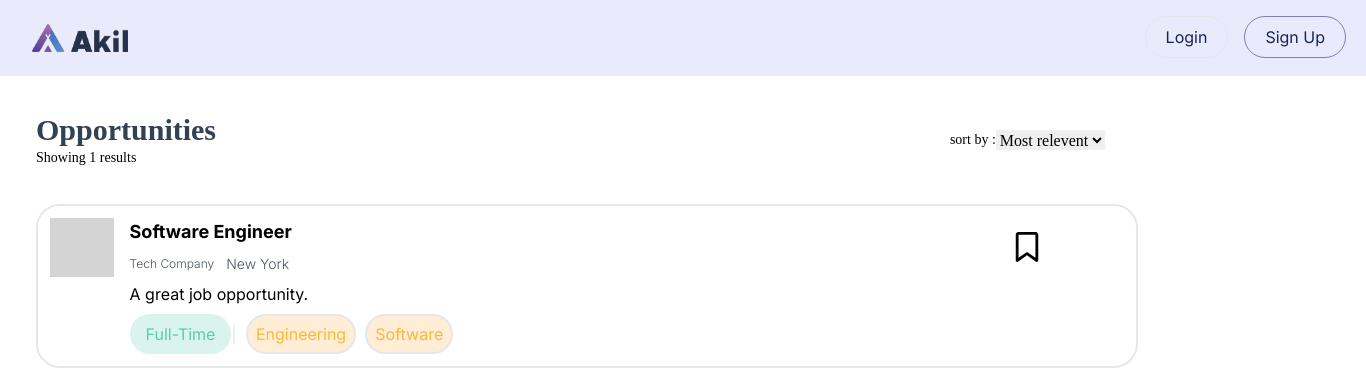
Test: JobCard Component › should allow bookmarking a job
Step 1. Click the icon with test id "bookmark-icon" → [1027, 247], box [1012,232,1042,262]
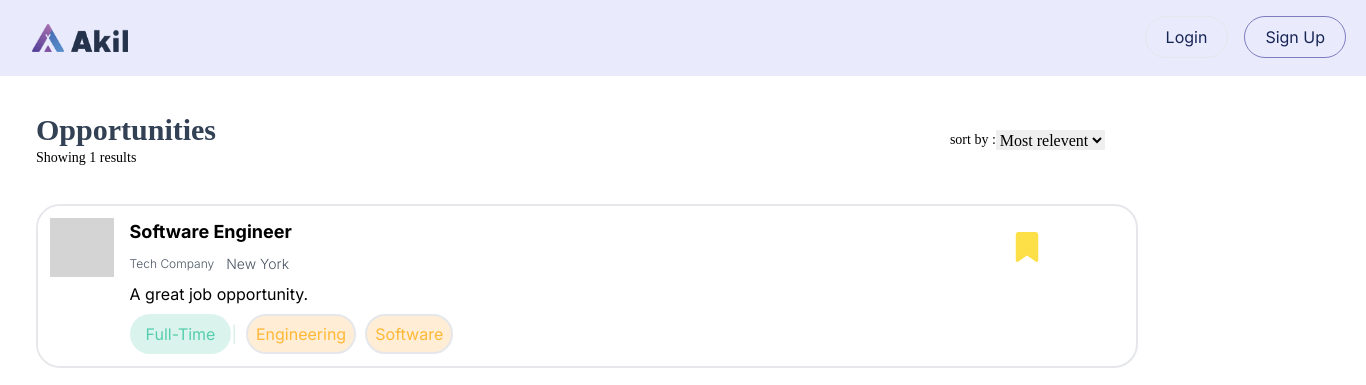
expect the icon with test id "bookmarked-icon" is shown: met
Step 2. Click the icon with test id "bookmarked-icon" → [1027, 247], box [1012,232,1042,262]
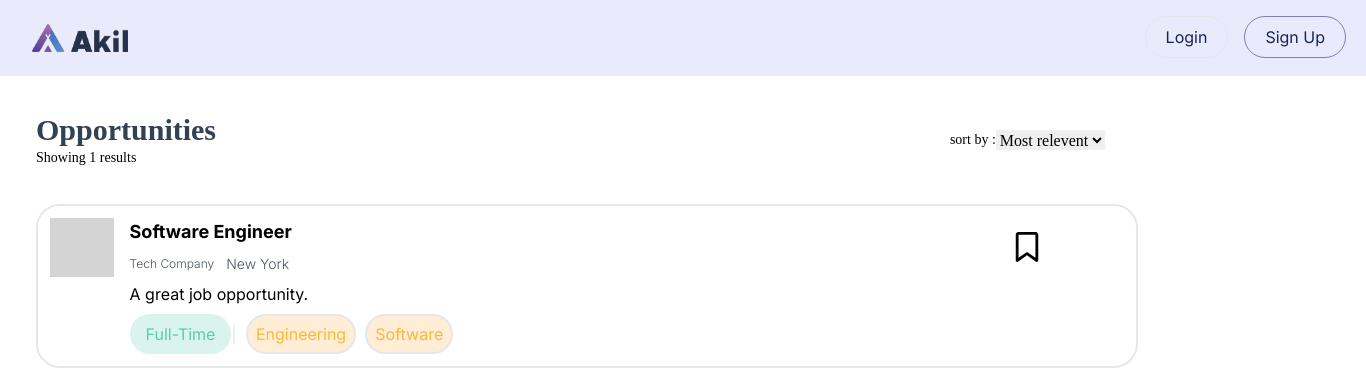
expect the icon with test id "bookmark-icon" is shown: met, box [1012,232,1042,262]
